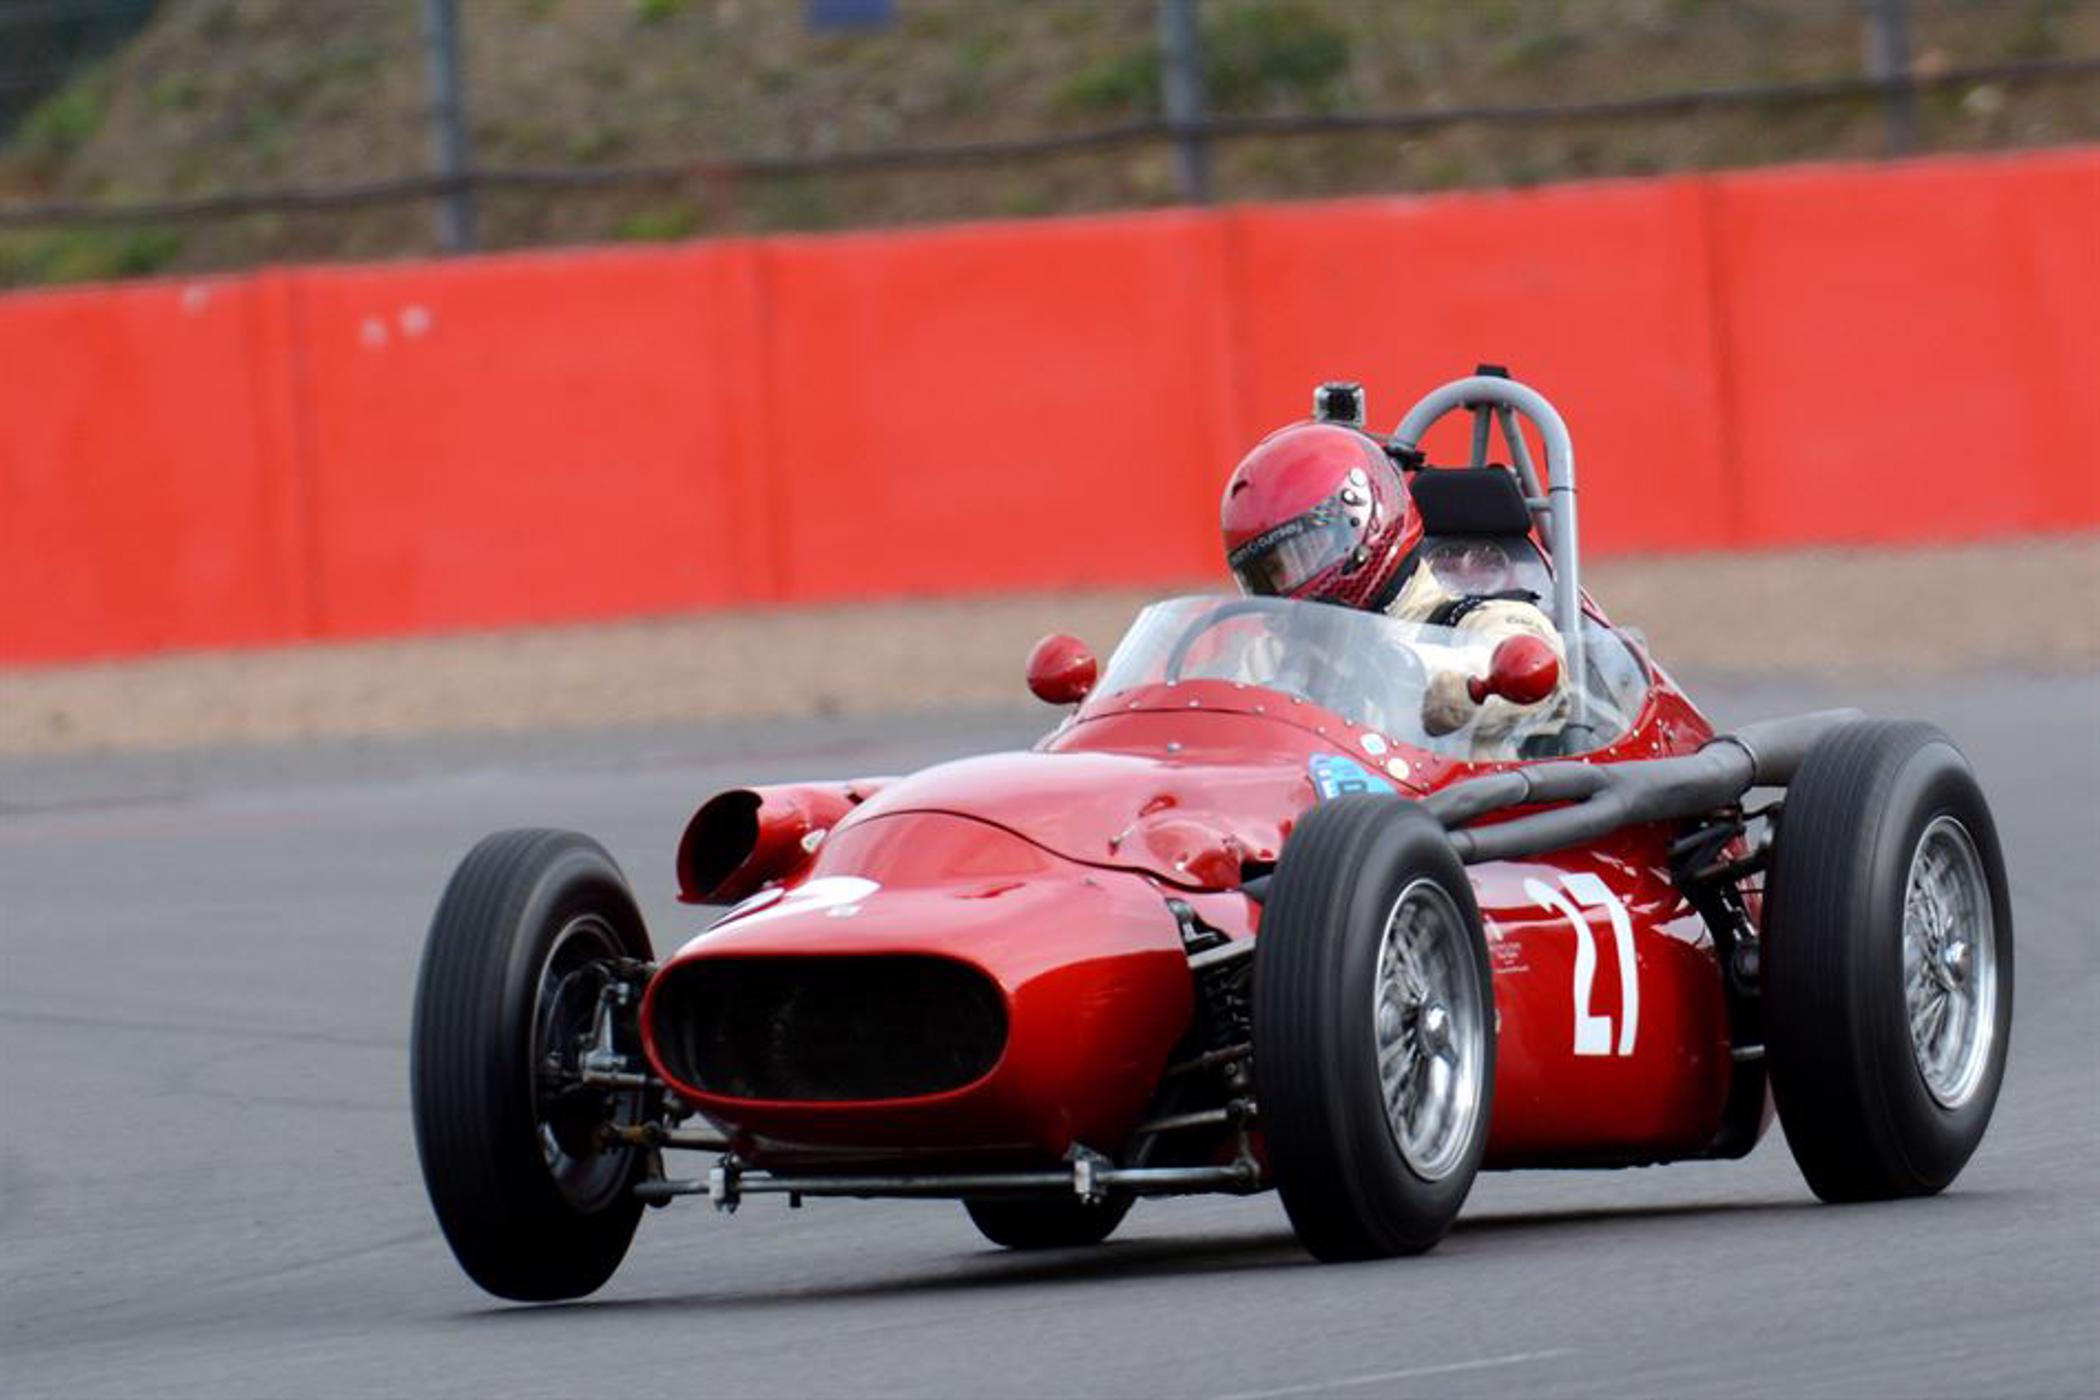f1_car: (366, 323, 2055, 1341)
helmet: (1202, 398, 1431, 637)
